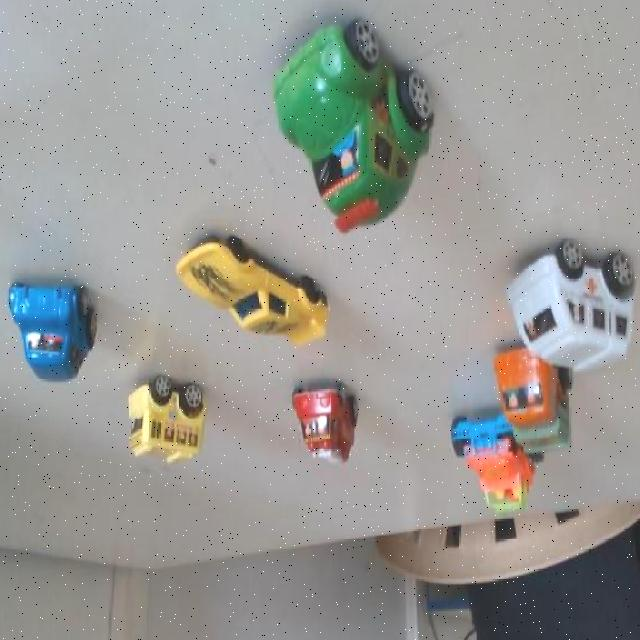car: (260, 17, 439, 232), (493, 215, 637, 394), (182, 224, 324, 355), (124, 361, 215, 467), (5, 274, 89, 384), (290, 362, 370, 477), (499, 338, 570, 463), (444, 414, 528, 519)
